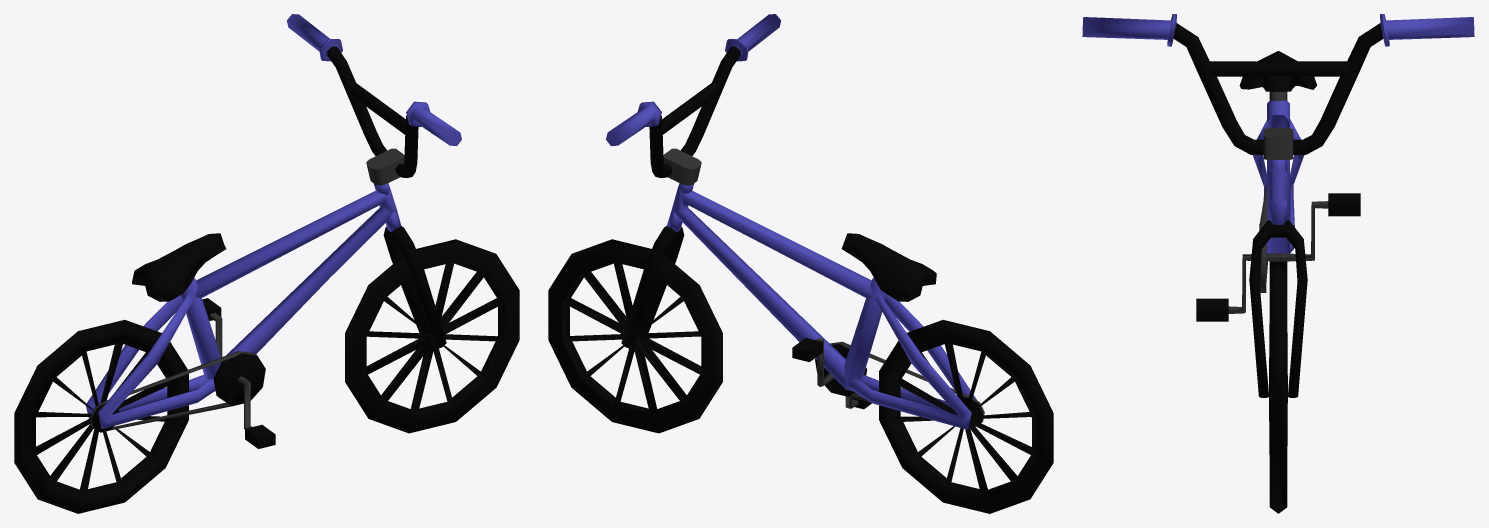
Rendered from BicycleBmxPurple.glb.
The picture shows the model from 3 angles, left to right: view 1: azimuth 30°, elevation 25°; view 2: azimuth 150°, elevation 25°; view 3: azimuth 270°, elevation 25°; orthographic projection. The views are drawn at different scales.
Parts seen in each view (by area): view 1: BicycleBmxPurple; view 2: BicycleBmxPurple; view 3: BicycleBmxPurple.
Boxes of the visible parts, left/top/right/bottom form: BicycleBmxPurple: left=14, top=14, right=519, bottom=513; BicycleBmxPurple: left=548, top=14, right=1053, bottom=513; BicycleBmxPurple: left=1082, top=14, right=1474, bottom=513.
Size of the model in its own units: 1.84 by 1.29 by 1.02.
1 material, 1 textured.
